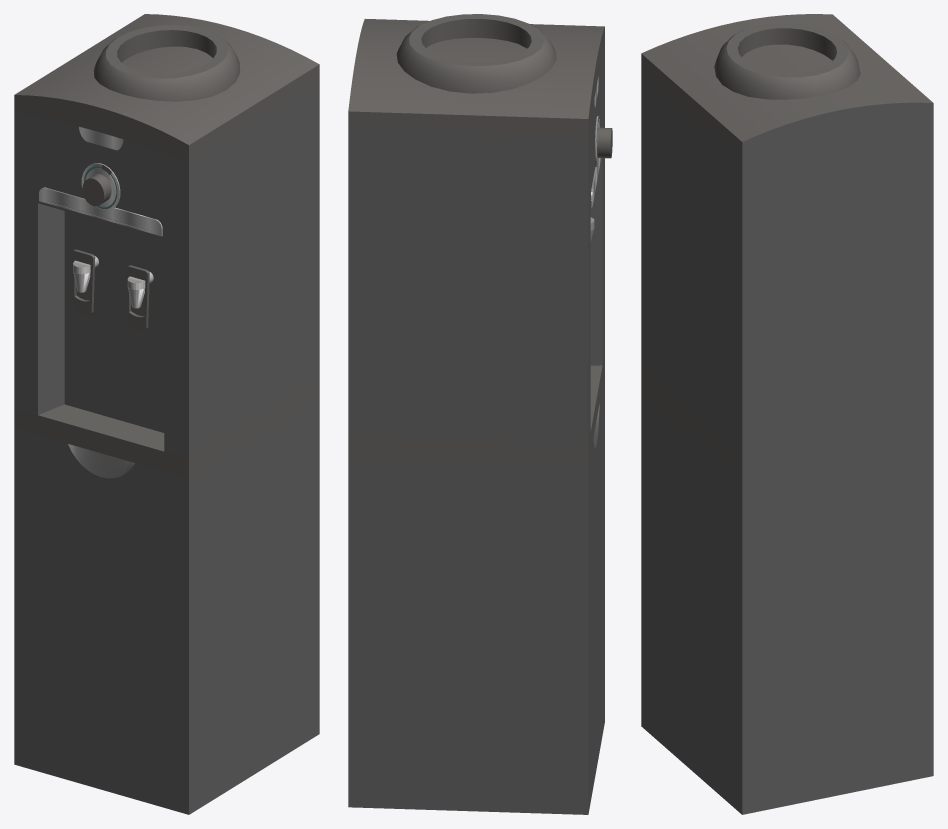
Rendered from Bebedouro.fbx.
The picture shows the model from 3 angles, left to right: view 1: azimuth 30°, elevation 25°; view 2: azimuth 150°, elevation 25°; view 3: azimuth 270°, elevation 25°; orthographic projection. The views are drawn at different scales.
Visible parts, largest first — view 1: Bebedeouro-CorpoPrincipal, Bebedouro-Encaixe; view 2: Bebedeouro-CorpoPrincipal, Bebedouro-Encaixe; view 3: Bebedeouro-CorpoPrincipal, Bebedouro-Encaixe.
Boxes of the visible parts, x1,y1,x2,y2 form: Bebedeouro-CorpoPrincipal: [14, 14, 319, 814]; Bebedouro-Encaixe: [93, 25, 240, 101]; Bebedeouro-CorpoPrincipal: [348, 19, 612, 814]; Bebedouro-Encaixe: [396, 14, 556, 93]; Bebedeouro-CorpoPrincipal: [641, 14, 933, 814]; Bebedouro-Encaixe: [714, 23, 860, 99].
Bounding box in the file's own units: 53.71 × 137 × 52.02.
Materials: 5 (1 with a texture image).
